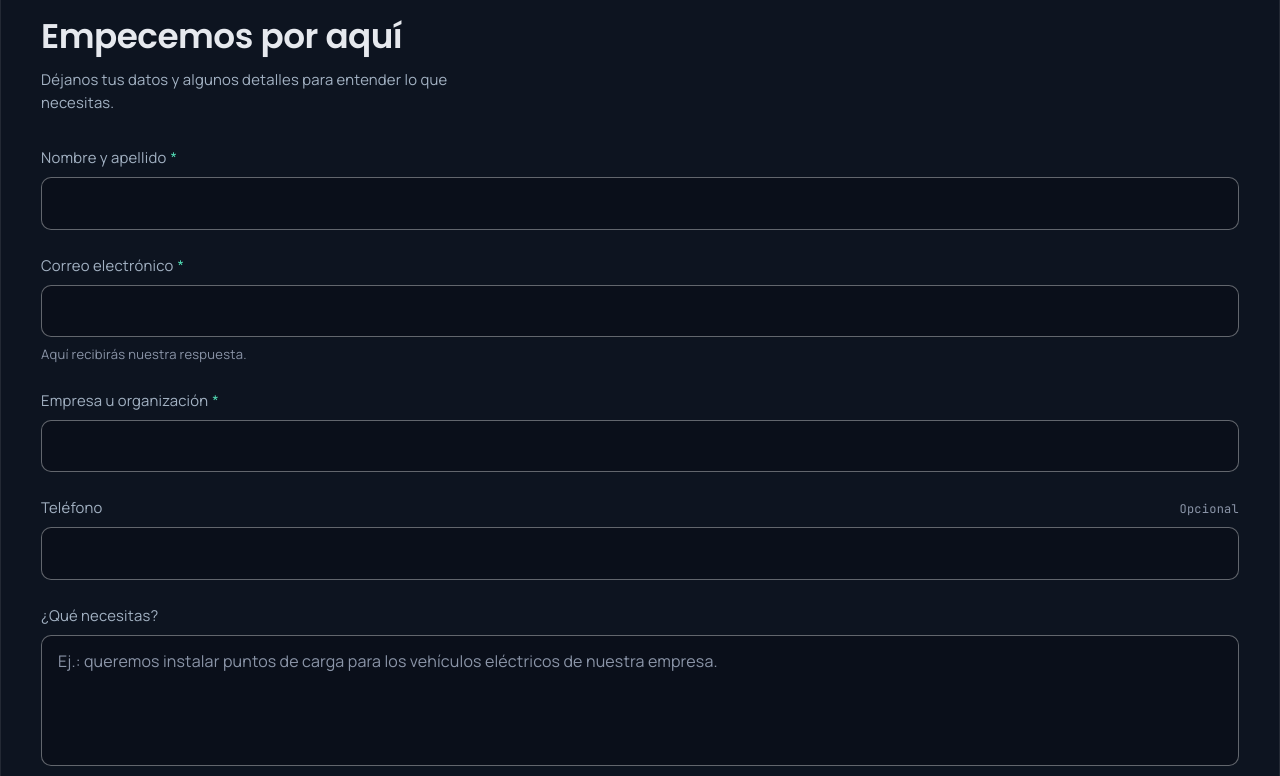
it: LeadForm · delivery › reports a failed send and keeps what was typed
Type "Ana Torres" into the field labelled "Nombre y apellido*" at (640, 204), box x1=41 y1=177 x2=1239 y2=230
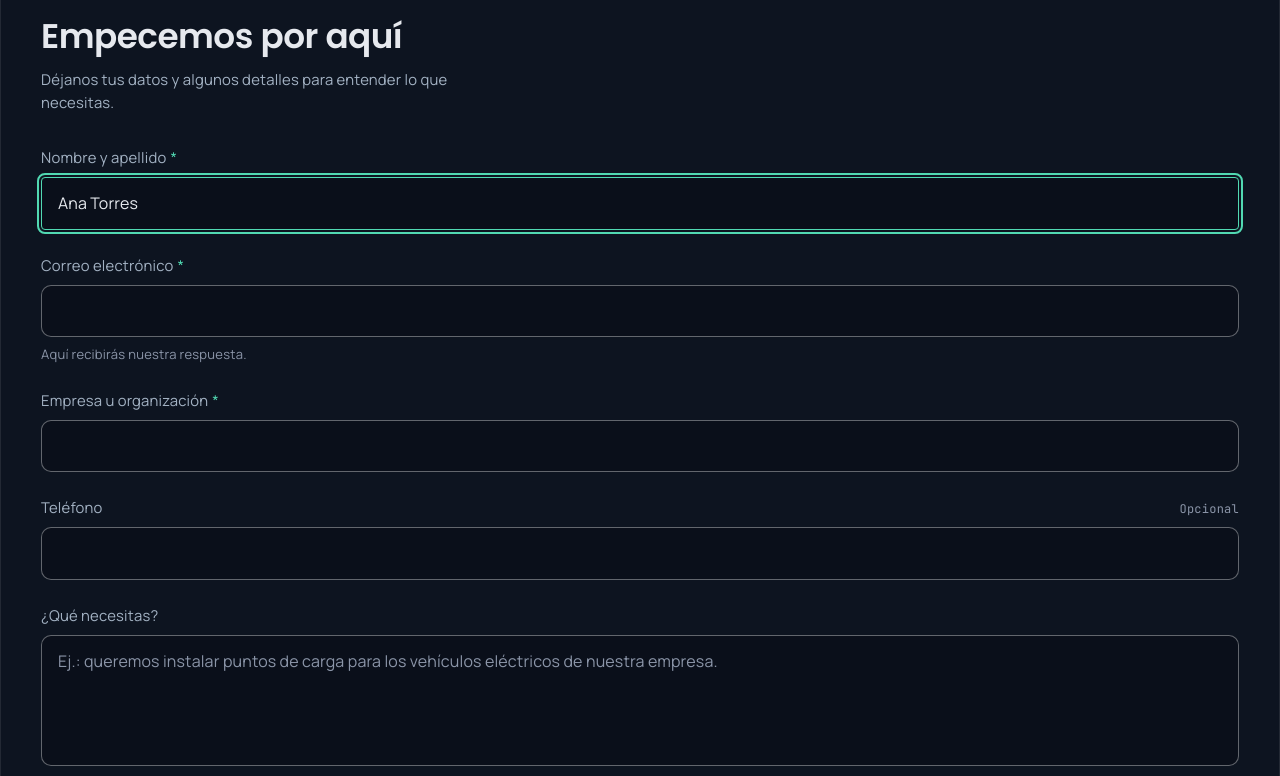
Type "ana@empresa.co" into the field labelled "Correo electrónico*" at (640, 311), box x1=41 y1=285 x2=1239 y2=337
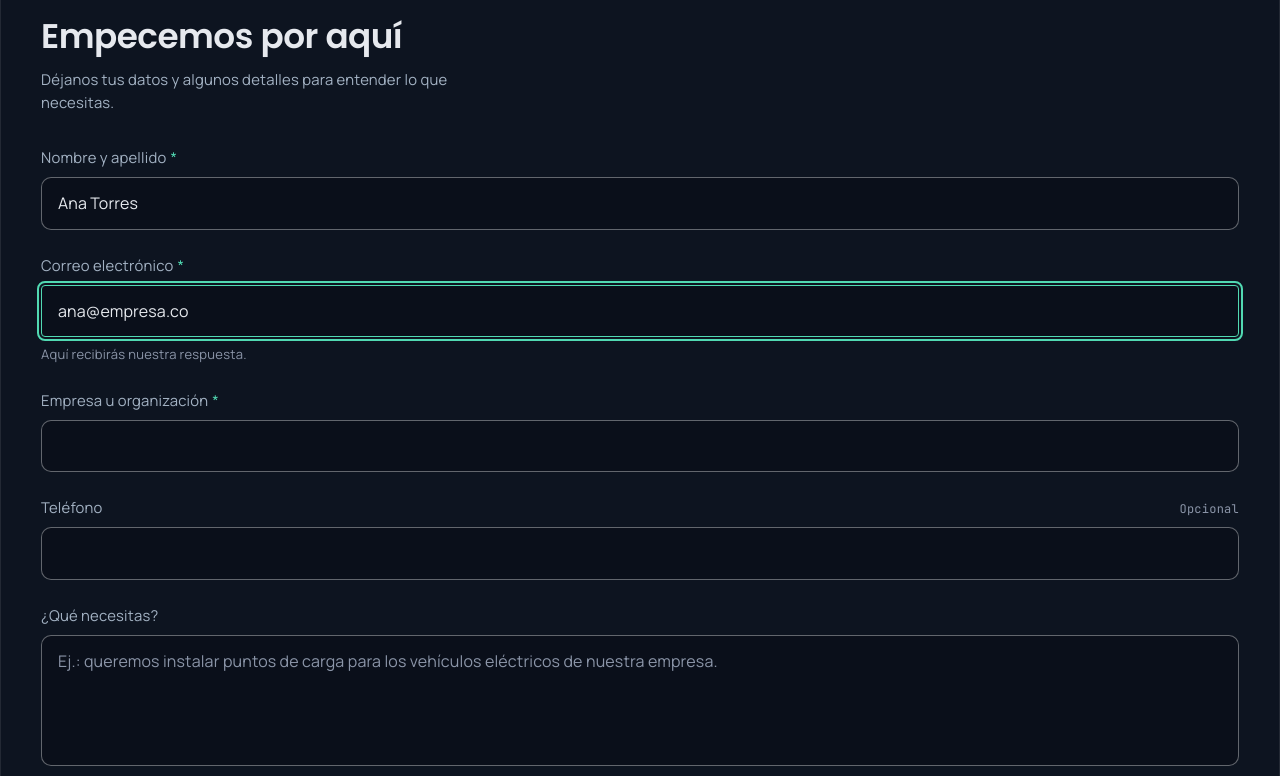
Type "Transportes del Norte SAS" into the field labelled "Empresa u organización*" at (640, 446), box x1=41 y1=420 x2=1239 y2=472
(page scrolled)
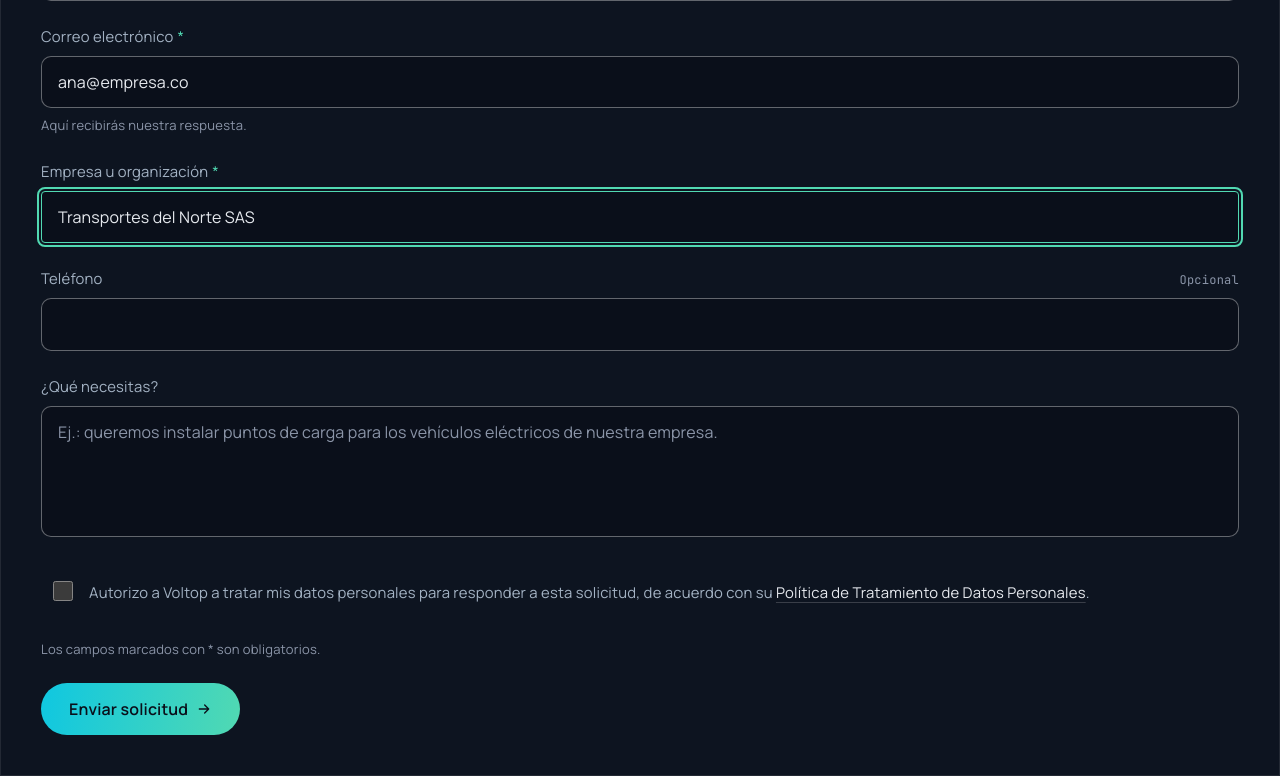
Click the checkbox at (63, 591), box x1=53 y1=581 x2=73 y2=601
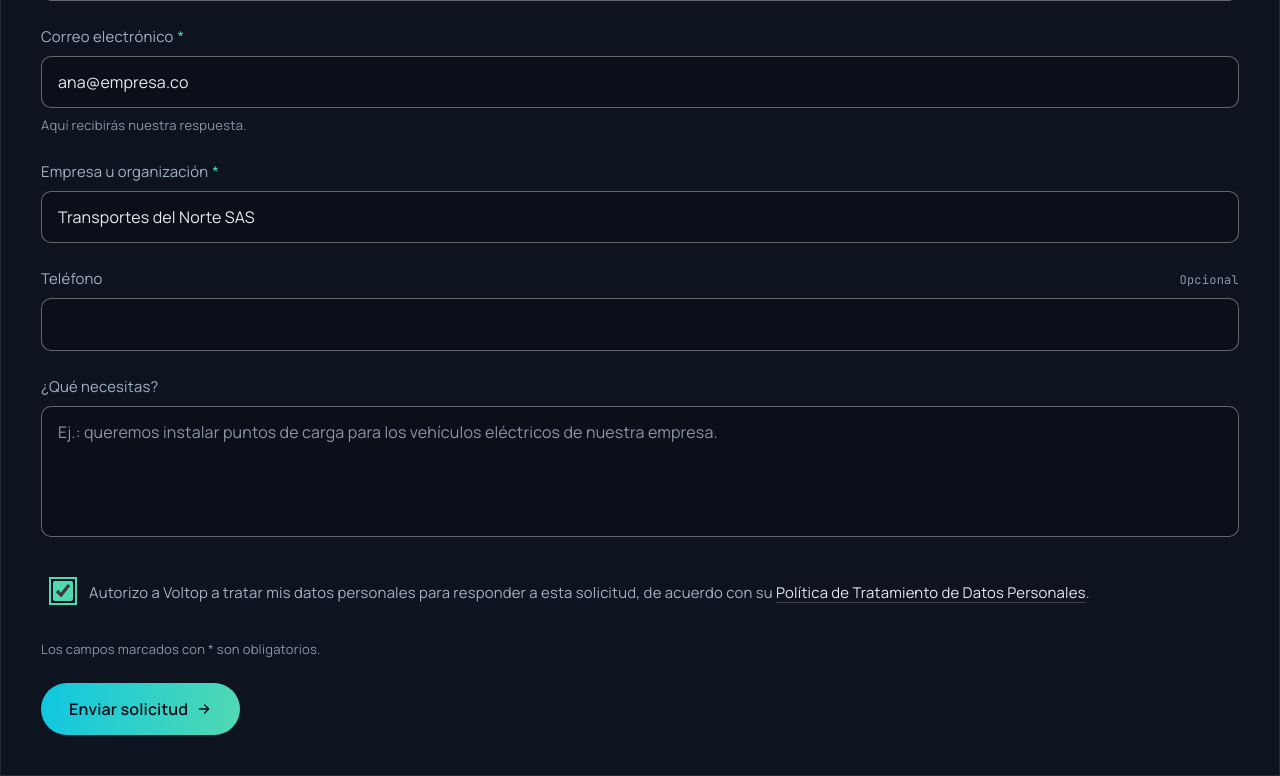
Click the button "Enviar solicitud" at (141, 709), box x1=41 y1=683 x2=240 y2=735
(page scrolled)
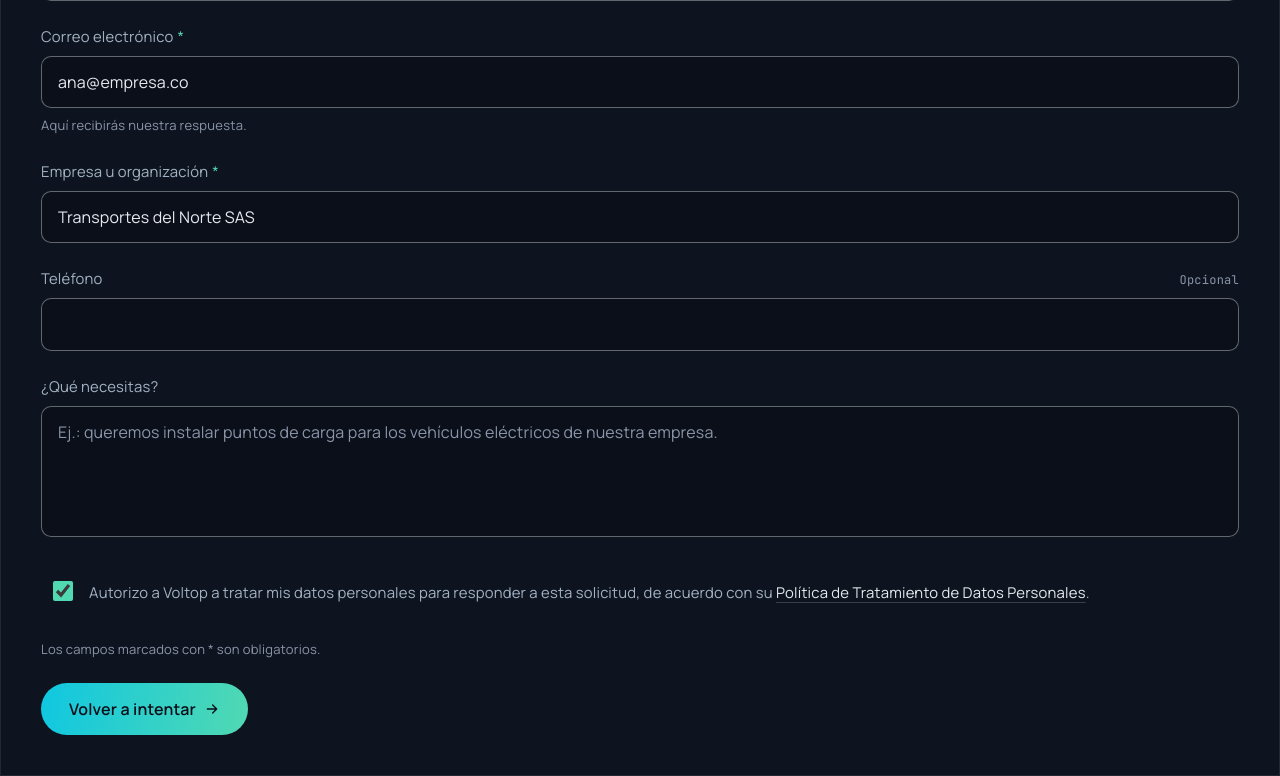
Now the button "Volver a intentar" is shown, box x1=41 y1=683 x2=248 y2=735
